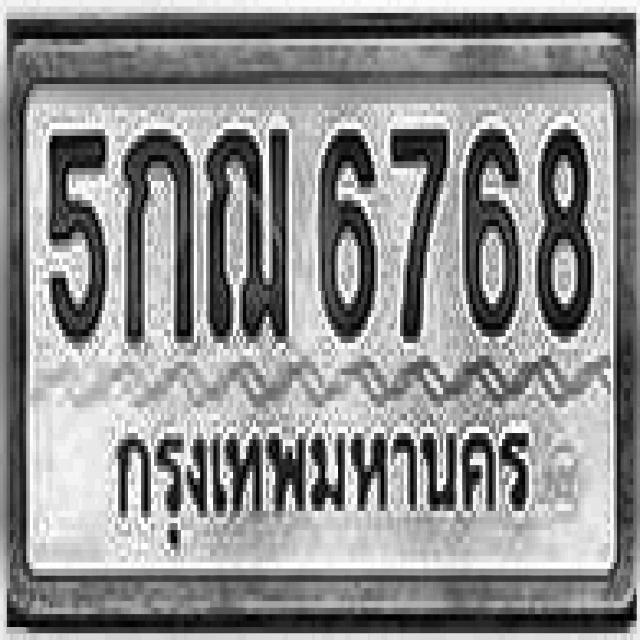license-plate: (20, 73, 620, 578)
